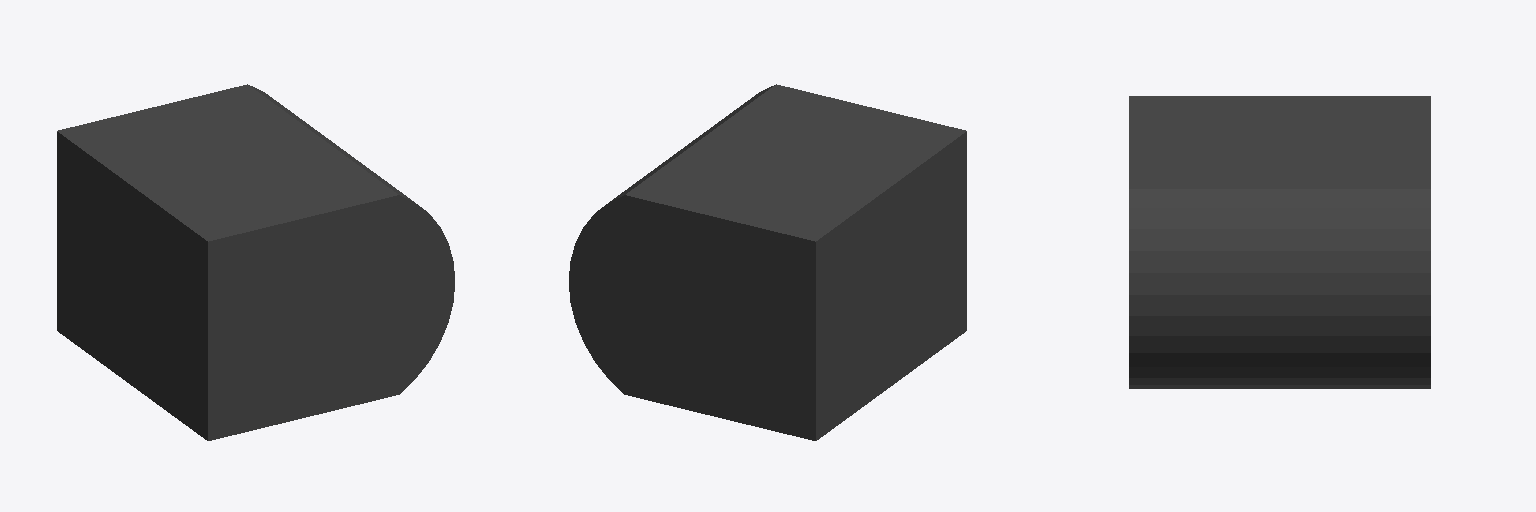
File: trigger.obj
3 views of the same model, side by side, from view 1: azimuth 30°, elevation 25°; view 2: azimuth 150°, elevation 25°; view 3: azimuth 270°, elevation 25° (orthographic).
Parts seen in each view (by area): view 1: trigger_Mesh13_Komponente_3_1_Komponente_10_1_Model; view 2: trigger_Mesh13_Komponente_3_1_Komponente_10_1_Model; view 3: trigger_Mesh13_Komponente_3_1_Komponente_10_1_Model.
Part boxes in pixels (x1,y1,x2,y2): trigger_Mesh13_Komponente_3_1_Komponente_10_1_Model: (57, 84, 454, 440); trigger_Mesh13_Komponente_3_1_Komponente_10_1_Model: (569, 84, 966, 440); trigger_Mesh13_Komponente_3_1_Komponente_10_1_Model: (1129, 96, 1430, 388).
Size of the model in its own units: 0.0138 by 0.0106 by 0.0146.